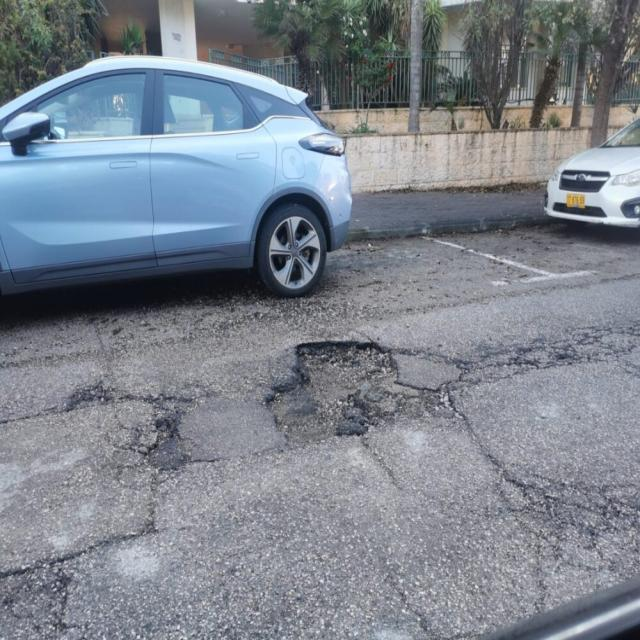major_pothole: (265, 336, 394, 444)
medium_pothole: (146, 411, 182, 470), (421, 384, 462, 420), (62, 386, 111, 410)
